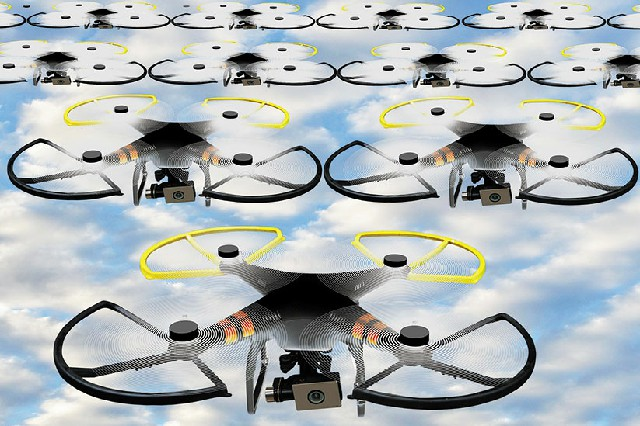maybay_khongnguoilai: (59, 221, 537, 419), (326, 89, 638, 214), (6, 91, 324, 211)
